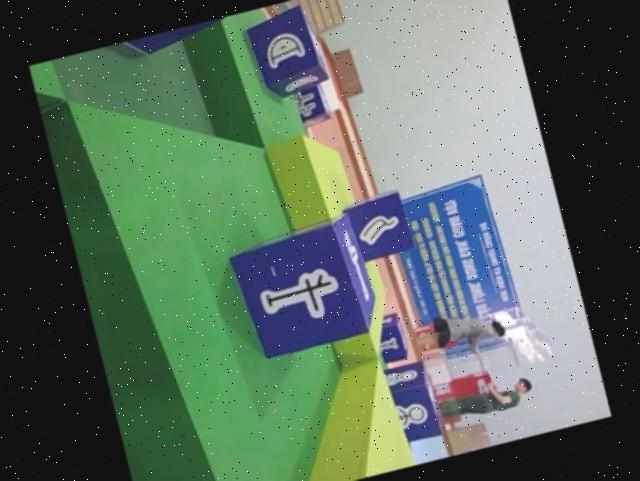R2 Real Blue: (220, 209, 381, 362), (240, 0, 332, 100), (338, 185, 416, 262), (381, 359, 442, 443), (369, 310, 408, 363), (293, 81, 333, 128)
